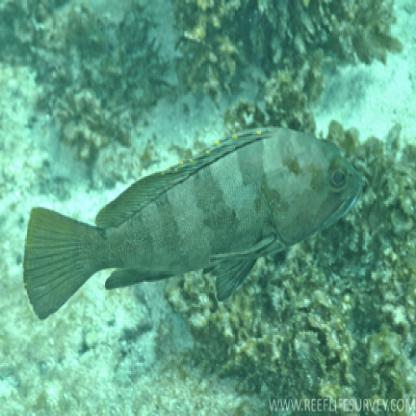Serranidae -Groupers-: (21, 119, 364, 325)
